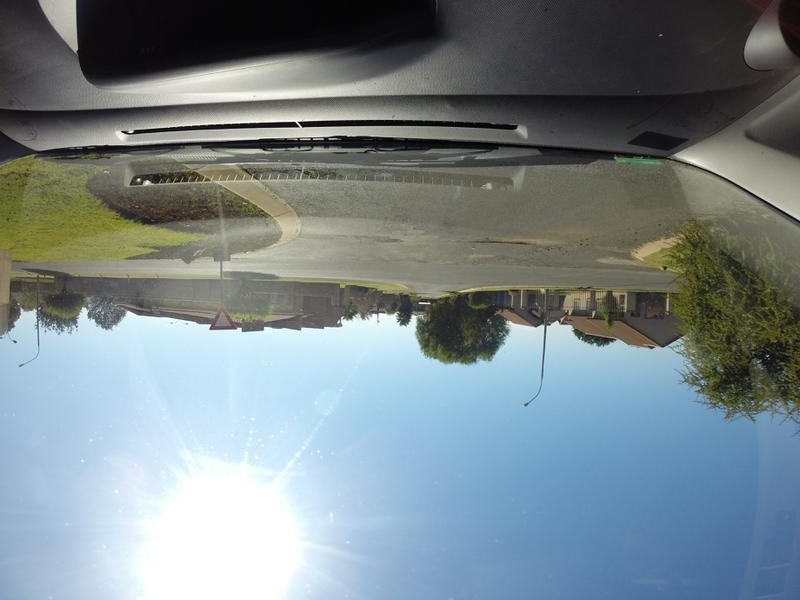pothole: (468, 234, 550, 245), (282, 169, 355, 177), (358, 232, 410, 243)
